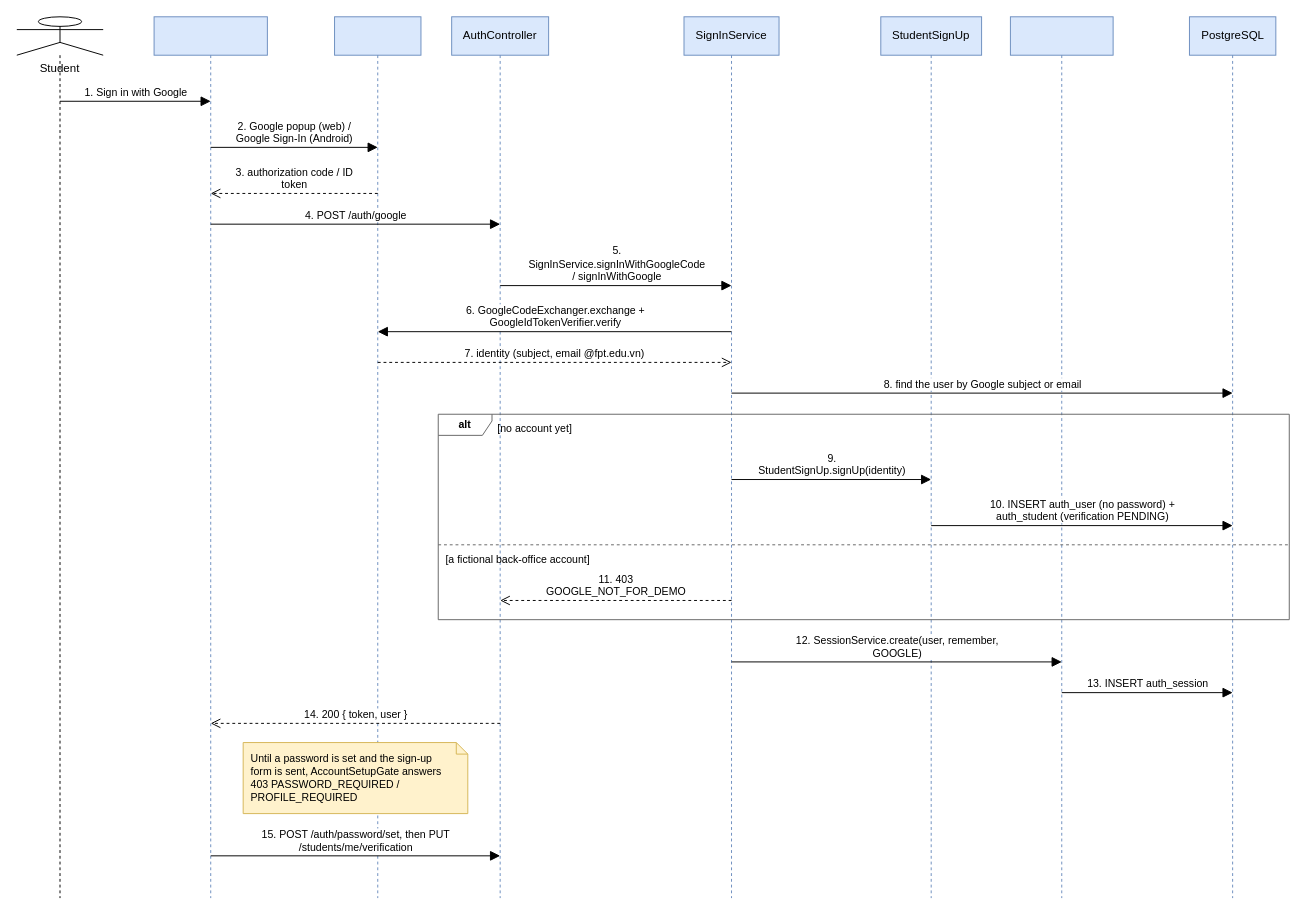
Some shapes in this 1308 by 915 pixel diagram are drawn without their labels. Each missing label, with the box of its shape:
Google: (334, 16, 421, 898)
SessionService: (1009, 16, 1113, 898)
Web / mobile app: (153, 16, 267, 898)
